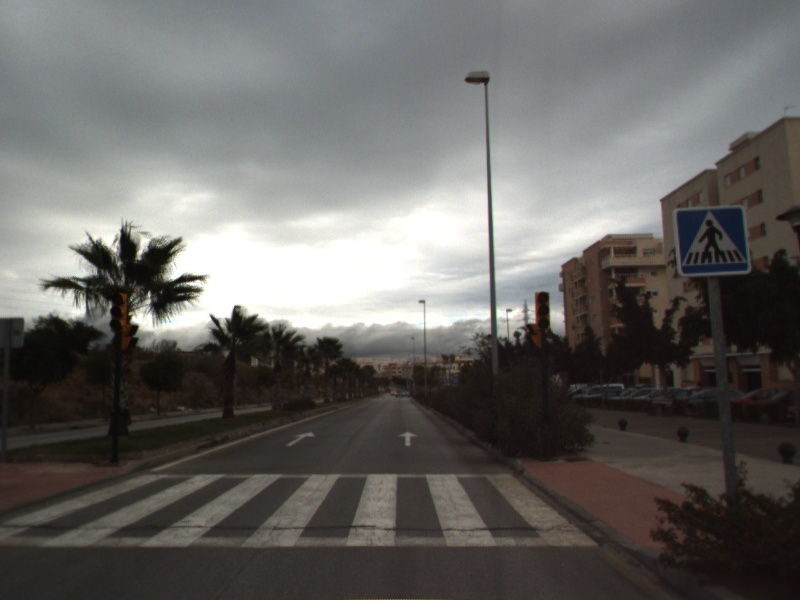STRAIGHT: (284, 429, 318, 448), (396, 429, 421, 448)
